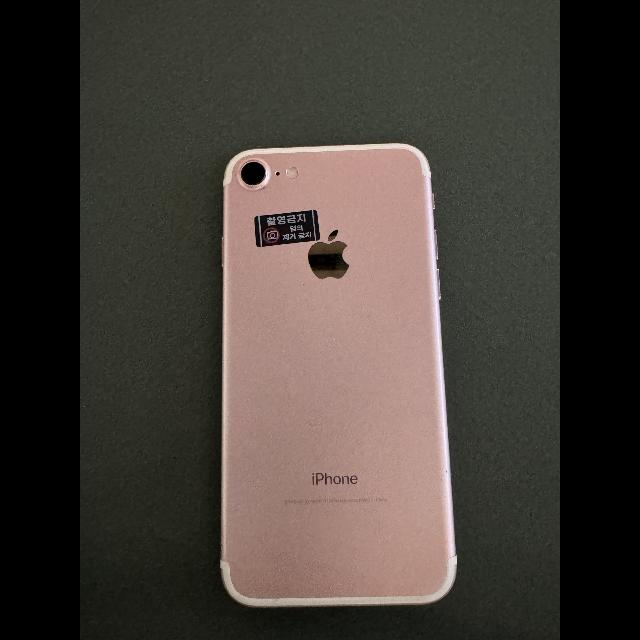lens: (241, 162, 266, 186)
phone: (220, 143, 457, 607)
sticker: (254, 210, 320, 247)
